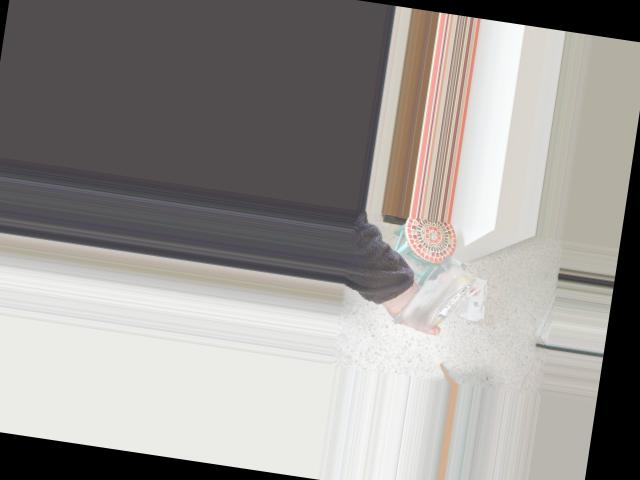cheese: (385, 225, 503, 348)
